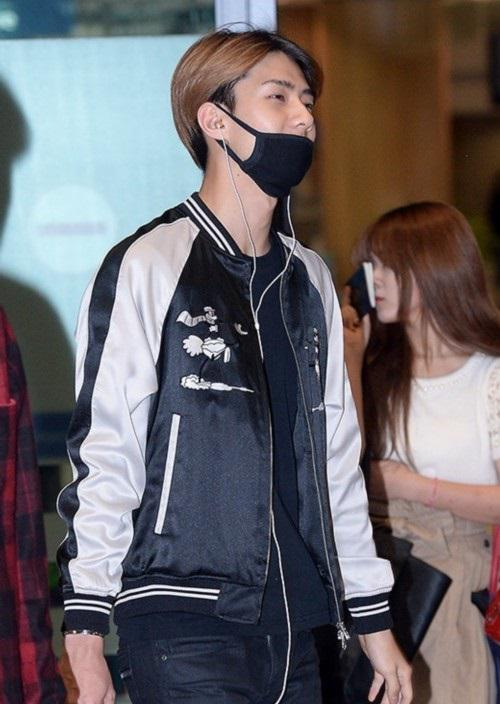NONE: (367, 244, 445, 323)
WRONG: (202, 74, 327, 199)
